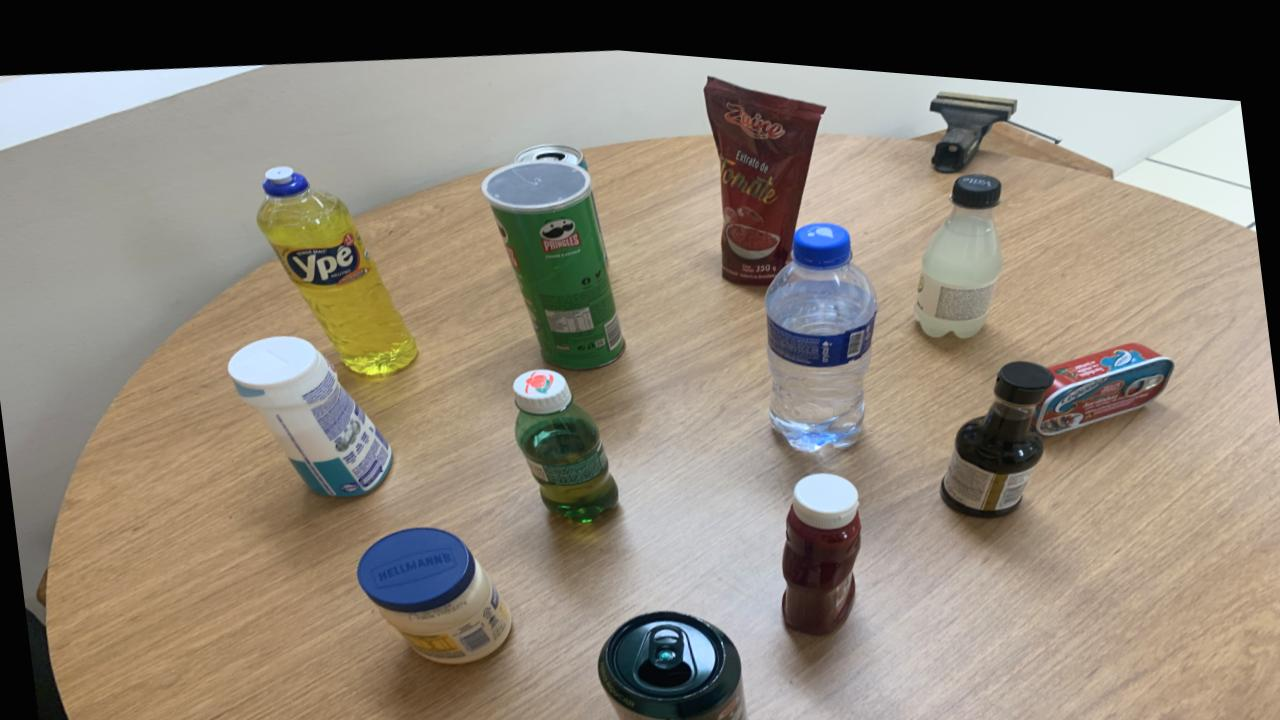Cleaner-Cleanup_Items: (228, 331, 394, 491)
Detergent-Cleanup_Items: (257, 161, 418, 368)
English_Sauce-Pantry_Items: (941, 343, 1055, 500)
Guarana-Drinks: (512, 359, 618, 512)
Guarana_Can-Drinks: (598, 599, 748, 720)
Ketchup-Pantry_Items: (782, 460, 862, 621)
Mayonnaise-Pantry_Items: (357, 520, 512, 656)
Pringles-Snacks: (481, 150, 625, 360)
Soda-Drinks: (914, 190, 1003, 322)
Tea-Drinks: (514, 134, 588, 159)
Tomato_Sauce-Pantry_Items: (703, 64, 825, 273)
Tuna_Can-Pantry_Items: (1035, 323, 1174, 417)
Water_Bottle-Drinks: (765, 208, 877, 437)
